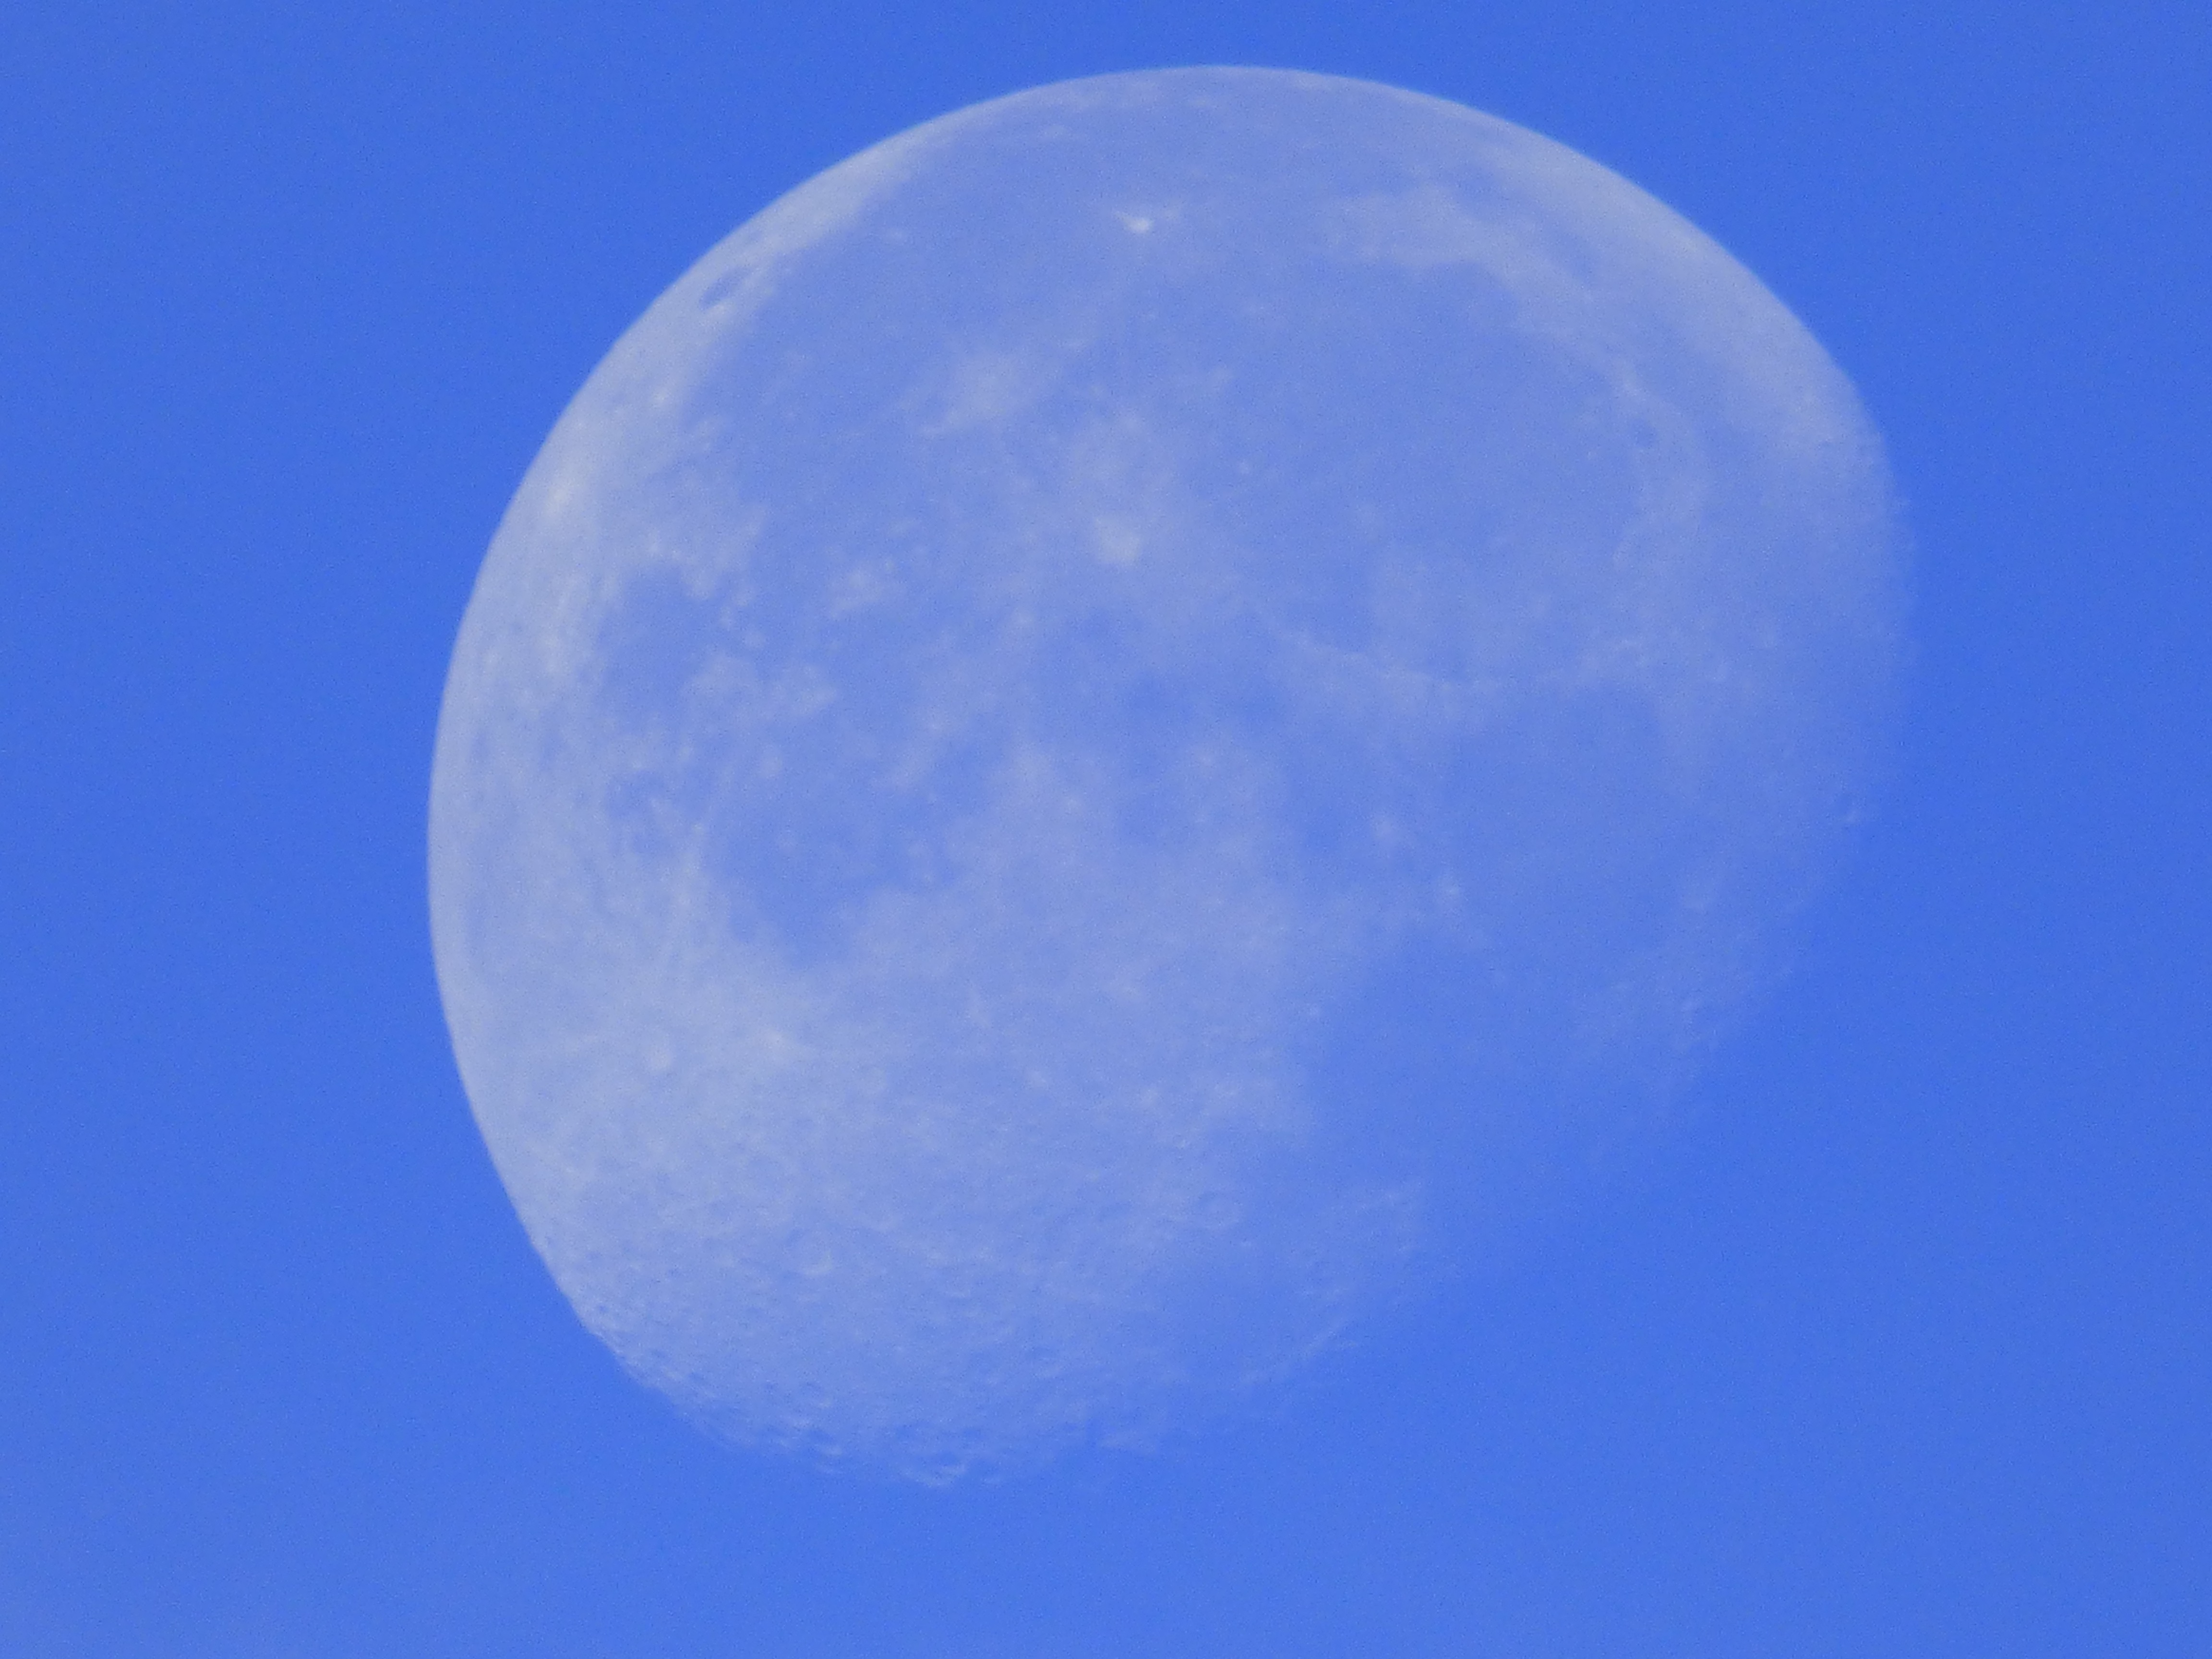crater: (585, 957, 730, 1122), (1071, 497, 1172, 591), (763, 1215, 850, 1305), (1599, 387, 1686, 465), (1097, 183, 1188, 256), (1348, 786, 1409, 864), (1181, 1164, 1251, 1227), (1820, 767, 1876, 840), (629, 364, 695, 425), (758, 798, 810, 866), (744, 718, 798, 779), (1019, 1330, 1075, 1382), (1231, 1220, 1263, 1255)
